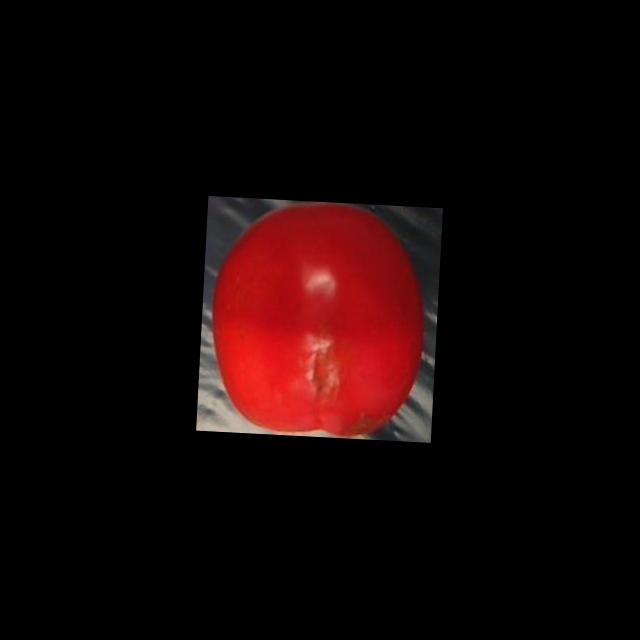tomato: (202, 198, 434, 443)
